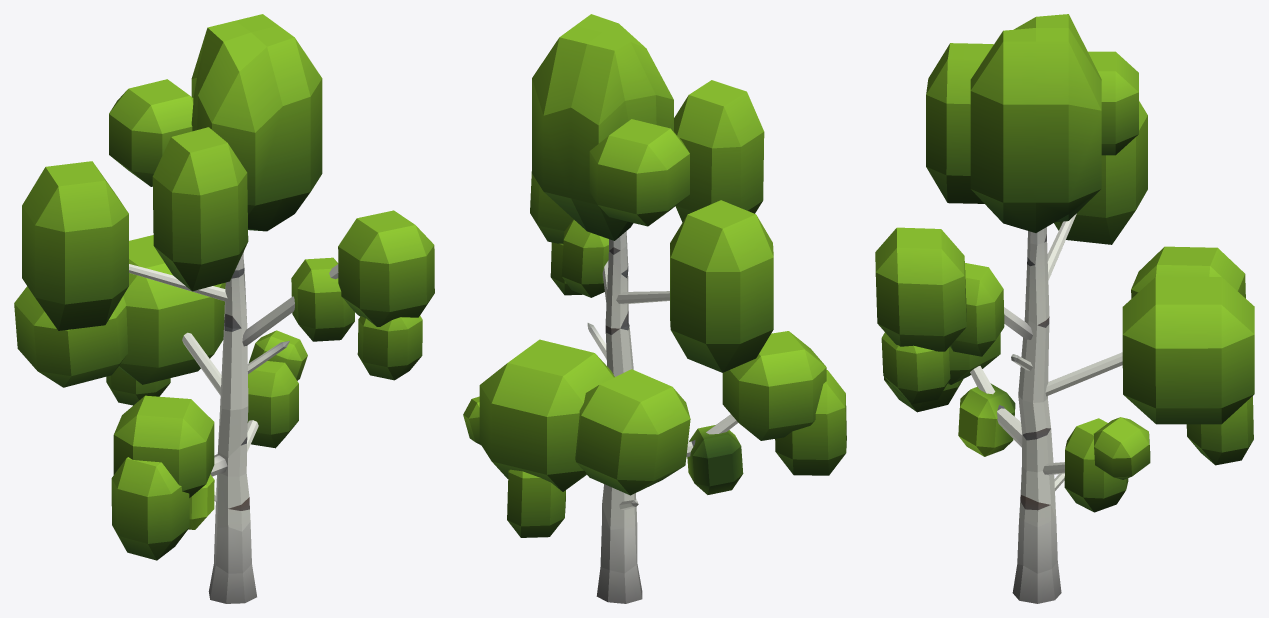
File: xiangshu1.FBX
The picture shows the model from 3 angles, left to right: view 1: azimuth 30°, elevation 25°; view 2: azimuth 150°, elevation 25°; view 3: azimuth 270°, elevation 25°; orthographic projection. The views are drawn at different scales.
Parts seen in each view (by area): view 1: SilverBirchTreeMediumB_01 - Default_0; view 2: SilverBirchTreeMediumB_01 - Default_0; view 3: SilverBirchTreeMediumB_01 - Default_0.
Part boxes in pixels (left/top/right/bottom): SilverBirchTreeMediumB_01 - Default_0: left=14, top=14, right=434, bottom=603; SilverBirchTreeMediumB_01 - Default_0: left=463, top=14, right=846, bottom=603; SilverBirchTreeMediumB_01 - Default_0: left=875, top=14, right=1254, bottom=603.
Bounding box in the file's own units: 28.3 × 48.48 × 29.04.
